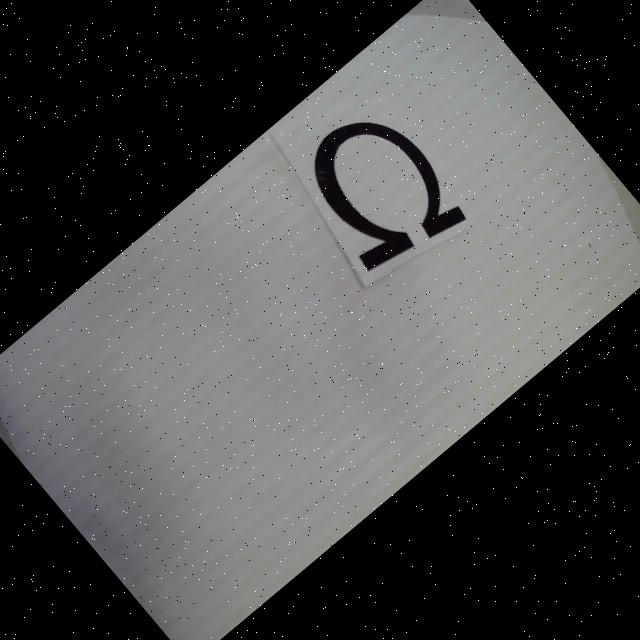OMEGA: (284, 95, 473, 288)
